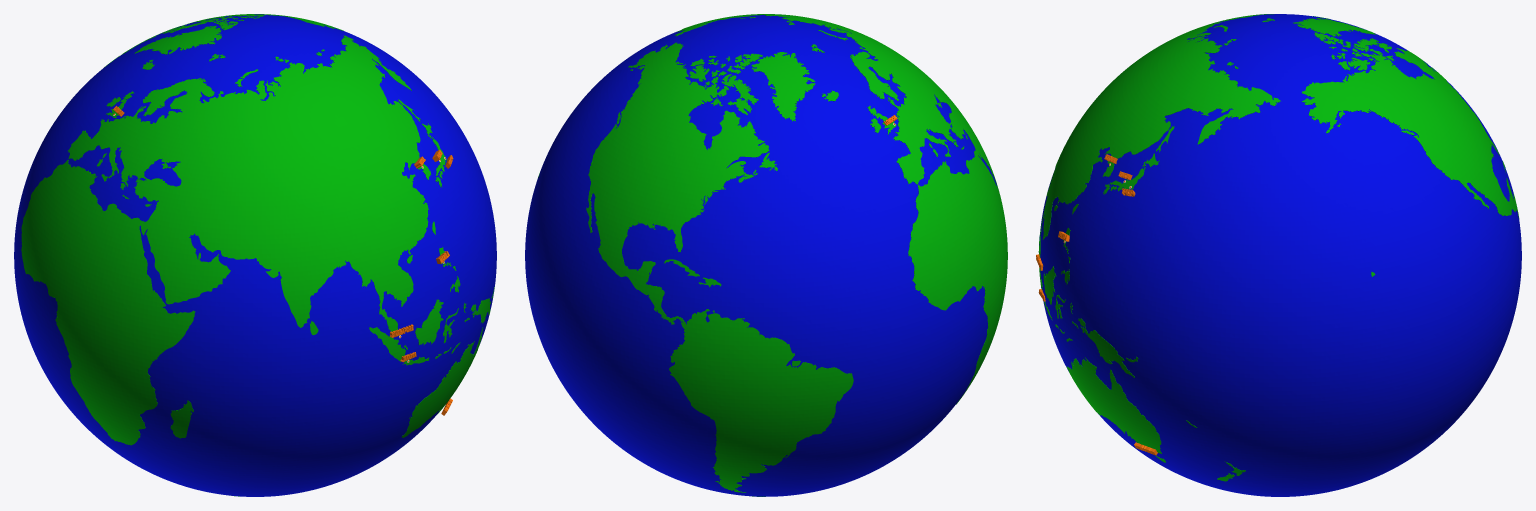
File: globeGold.glb
3 renders of one model, left to right at view 1: azimuth 30°, elevation 25°; view 2: azimuth 150°, elevation 25°; view 3: azimuth 270°, elevation 25°, orthographic.
Parts seen in each view (by area): view 1: Object_2, Object_20, Object_16, Object_12, Object_17, Object_13; view 2: Object_2, Object_19, Object_20, Object_17, Object_15; view 3: Object_2, Object_20, Object_19, Object_16, Object_14, Object_17, Object_13.
Part boxes in pixels (box(x1,y1,x2,y2)): Object_2: box(14, 14, 496, 496); Object_20: box(21, 35, 431, 445); Object_16: box(401, 327, 483, 437); Object_12: box(170, 14, 458, 438); Object_17: box(134, 26, 221, 54); Object_13: box(106, 91, 446, 344); Object_2: box(525, 15, 996, 496); Object_19: box(586, 42, 853, 490); Object_20: box(674, 14, 1007, 404); Object_17: box(751, 52, 815, 121); Object_15: box(721, 74, 758, 115); Object_2: box(1039, 14, 1521, 496); Object_20: box(1039, 14, 1280, 257); Object_19: box(1301, 48, 1519, 218); Object_16: box(1067, 357, 1161, 453); Object_14: box(1078, 32, 1343, 377); Object_17: box(1293, 18, 1376, 36); Object_13: box(1043, 167, 1145, 304).
Bounding box in the file's own units: 2 × 2 × 2.01.
